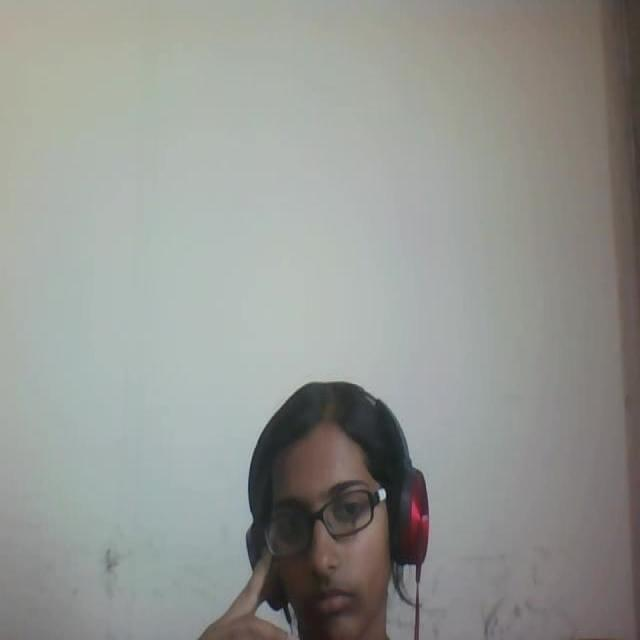Bored: (225, 339, 437, 640)
